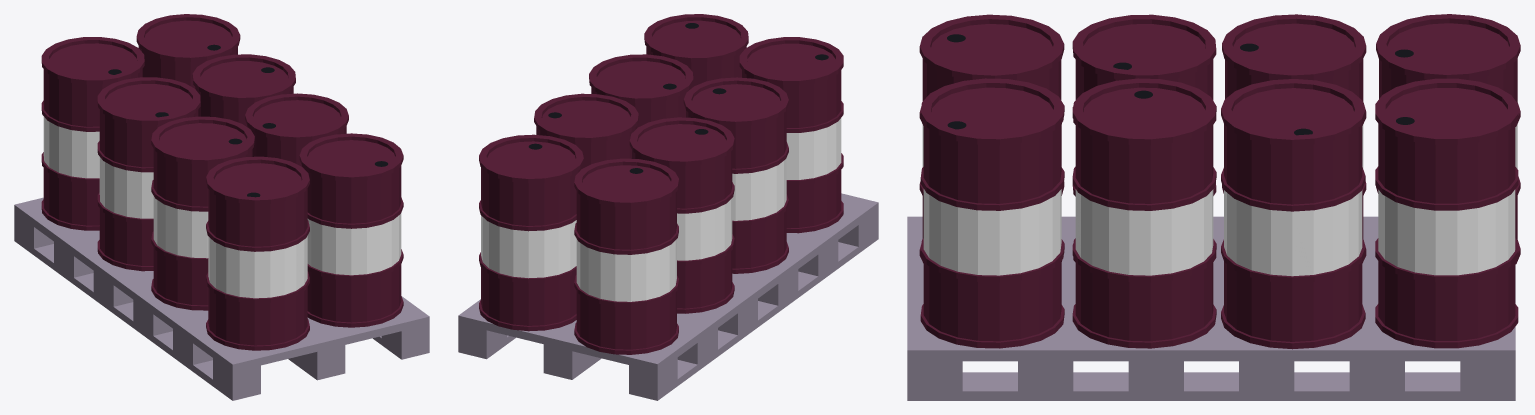
File: palette-with-barrels.fbx
The picture shows the model from 3 angles, left to right: view 1: azimuth 30°, elevation 25°; view 2: azimuth 150°, elevation 25°; view 3: azimuth 270°, elevation 25°; orthographic projection. The views are drawn at different scales.
Visible parts, largest first — view 1: pallet, barrels, barrels.001, barrels.006, barrels.002, barrels.004, barrels.007, barrels.003, barrels.005; view 2: barrels.006, pallet, barrels.007, barrels.004, barrels, barrels.002, barrels.005, barrels.001, barrels.003; view 3: pallet, barrels.001, barrels.003, barrels.005, barrels.007, barrels.006, barrels.004, barrels, barrels.002.
Boxes of the visible parts, bbox=[...] form: pallet: bbox=[14, 197, 429, 400]; barrels: bbox=[206, 156, 309, 350]; barrels.001: bbox=[299, 133, 403, 327]; barrels.006: bbox=[41, 37, 144, 230]; barrels.002: bbox=[151, 116, 254, 310]; barrels.004: bbox=[97, 77, 200, 271]; barrels.007: bbox=[136, 14, 240, 88]; barrels.003: bbox=[245, 93, 348, 166]; barrels.005: bbox=[192, 54, 295, 126]; barrels.006: bbox=[574, 158, 678, 354]; pallet: bbox=[458, 193, 878, 400]; barrels.007: bbox=[479, 134, 583, 331]; barrels.004: bbox=[629, 117, 734, 313]; barrels: bbox=[739, 37, 843, 233]; barrels.002: bbox=[683, 77, 788, 273]; barrels.005: bbox=[534, 93, 638, 168]; barrels.001: bbox=[644, 14, 748, 88]; barrels.003: bbox=[589, 54, 693, 128]; pallet: bbox=[907, 216, 1515, 400]; barrels.001: bbox=[920, 78, 1064, 348]; barrels.003: bbox=[1072, 78, 1216, 348]; barrels.005: bbox=[1221, 79, 1365, 349]; barrels.007: bbox=[1375, 78, 1518, 348]; barrels.006: bbox=[1376, 14, 1520, 264]; barrels.004: bbox=[1222, 14, 1366, 263]; barrels: bbox=[919, 14, 1064, 263]; barrels.002: bbox=[1072, 14, 1216, 262].
Size of the model in its own units: 146 by 132 by 282.
1 material, 1 textured.
